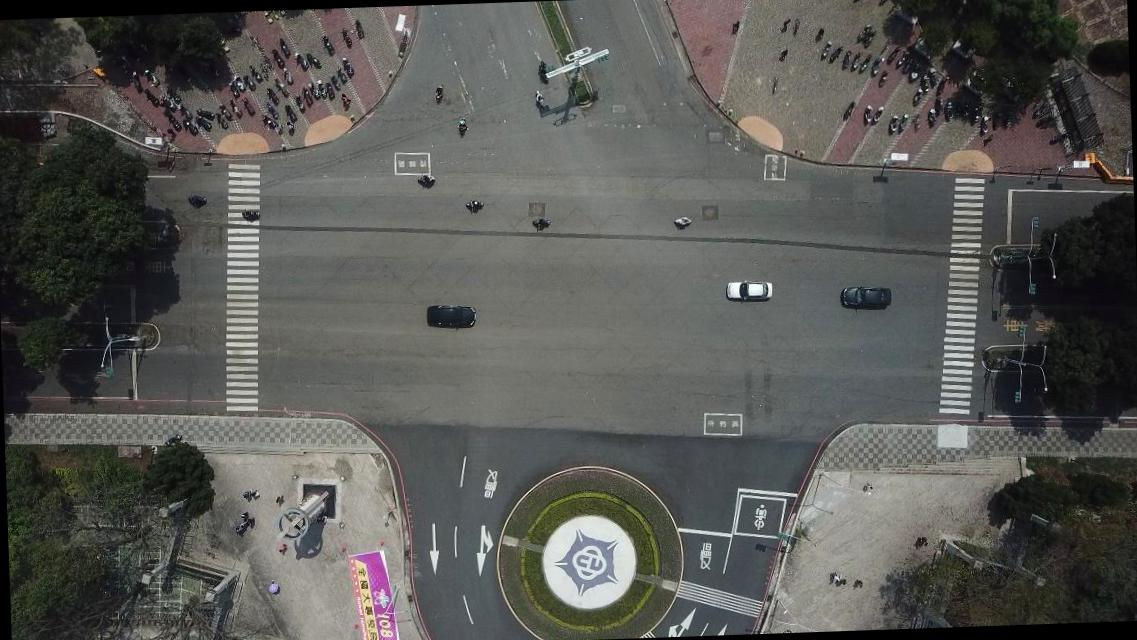vehicle: (424, 303, 478, 330), (841, 284, 893, 312), (724, 278, 774, 302)
